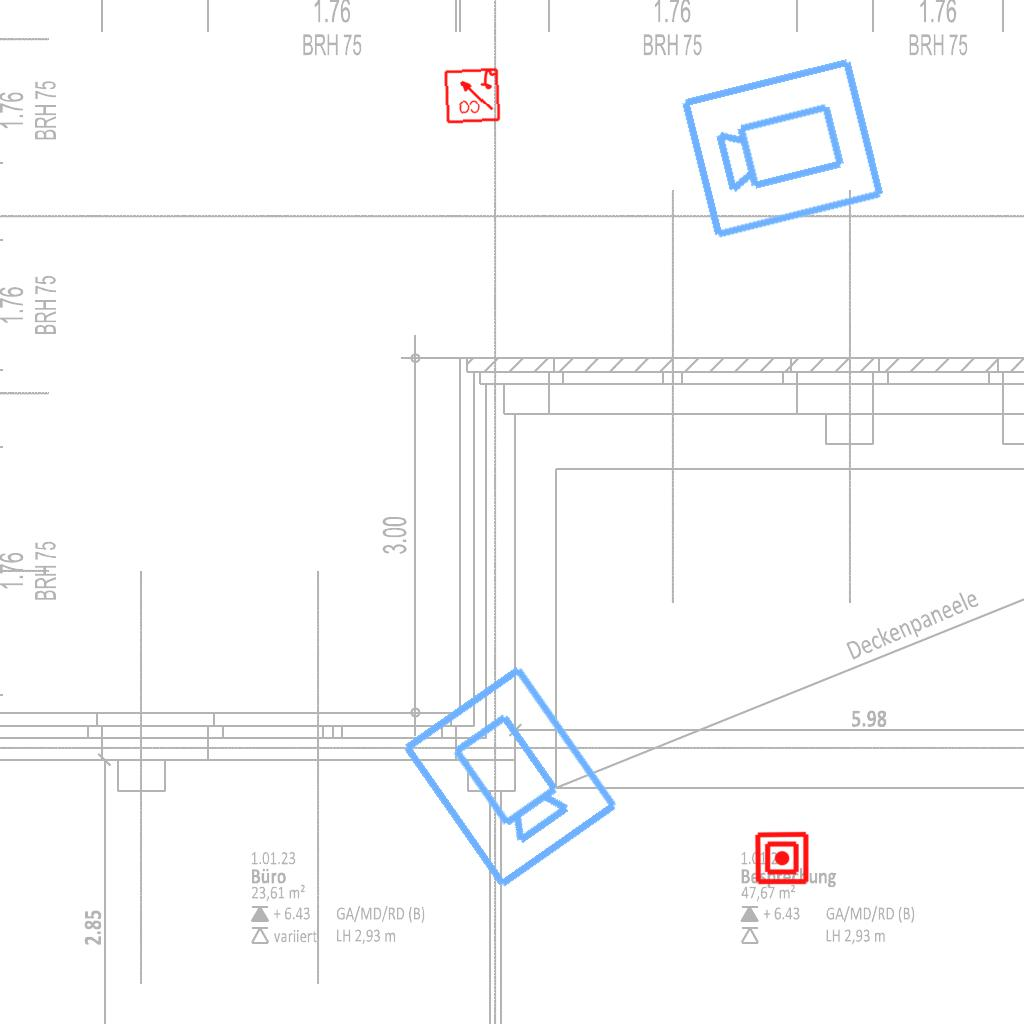KFO_Kamera_mit_Festobjektiv: (393, 658, 625, 896), (676, 50, 890, 244)
NAM-Nichtautomatischer_Melder: (754, 830, 810, 886)
ROA_Rauchmelder_optisch_mit_Signalgeber_(Sockelsirene): (442, 65, 502, 125)
